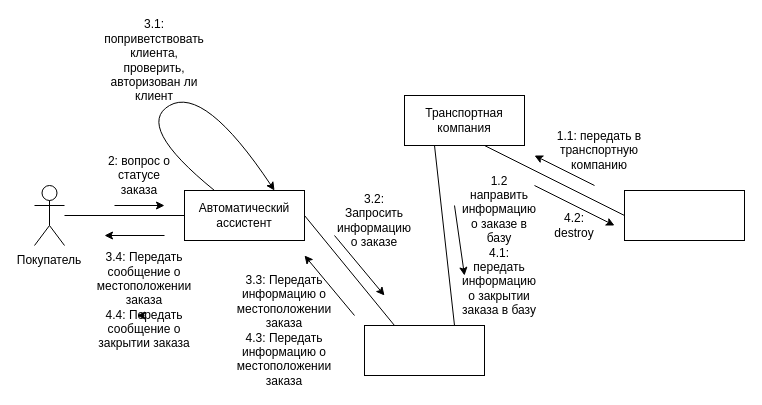
This 762x405 diagram has some shape labels left out. The centre of each missing label's shape, as x and y in pixels:
База клиентских заказов: the point at 424,350
Заказ: the point at 684,215
